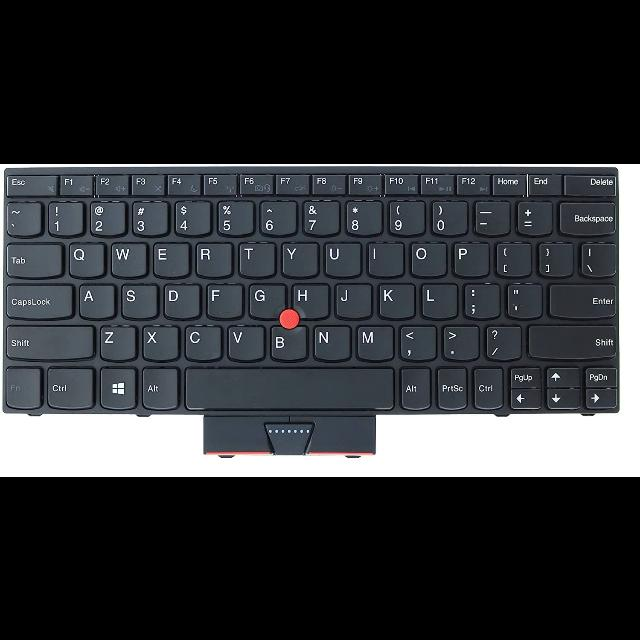Computer-Keyboard: (2, 164, 622, 458)
